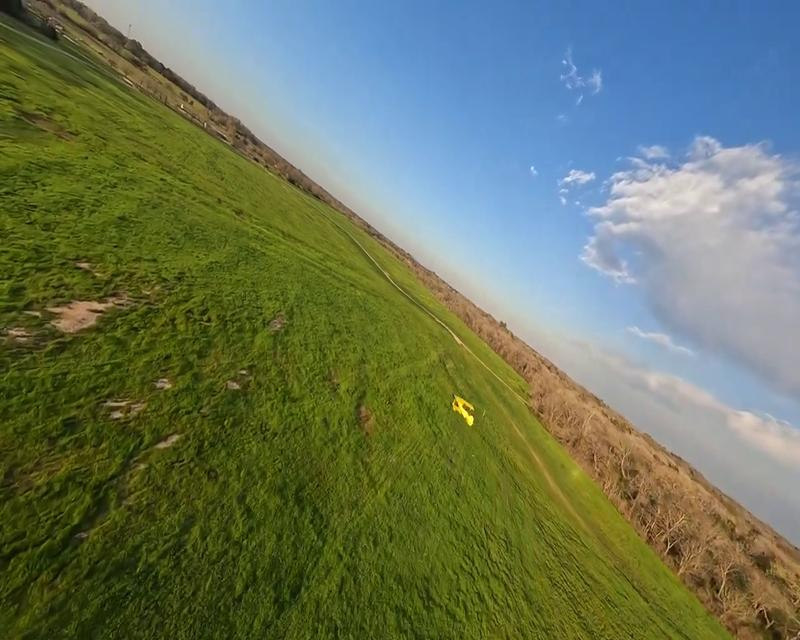UAV: (451, 392, 474, 425)
